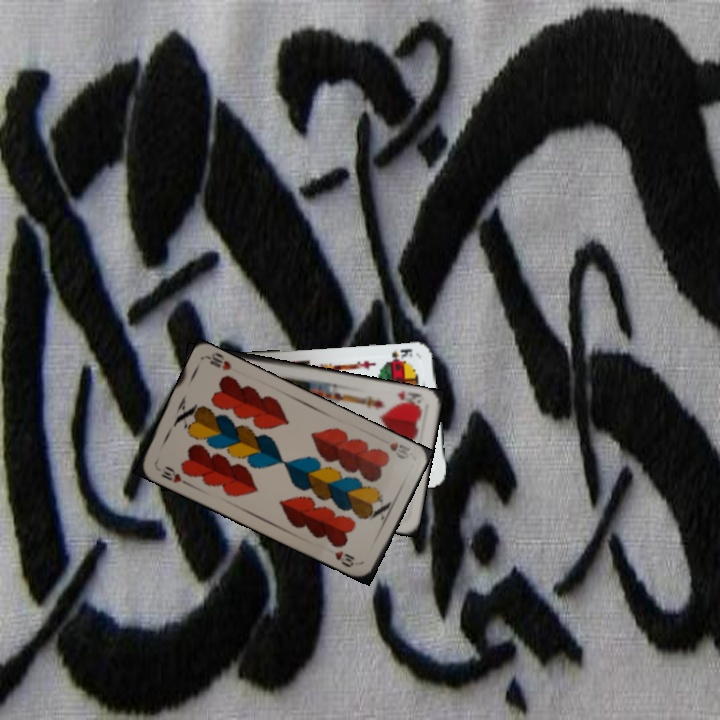H10: (157, 462, 191, 487), (385, 438, 413, 462)
HK: (393, 386, 425, 410)
SK: (383, 345, 415, 365)
